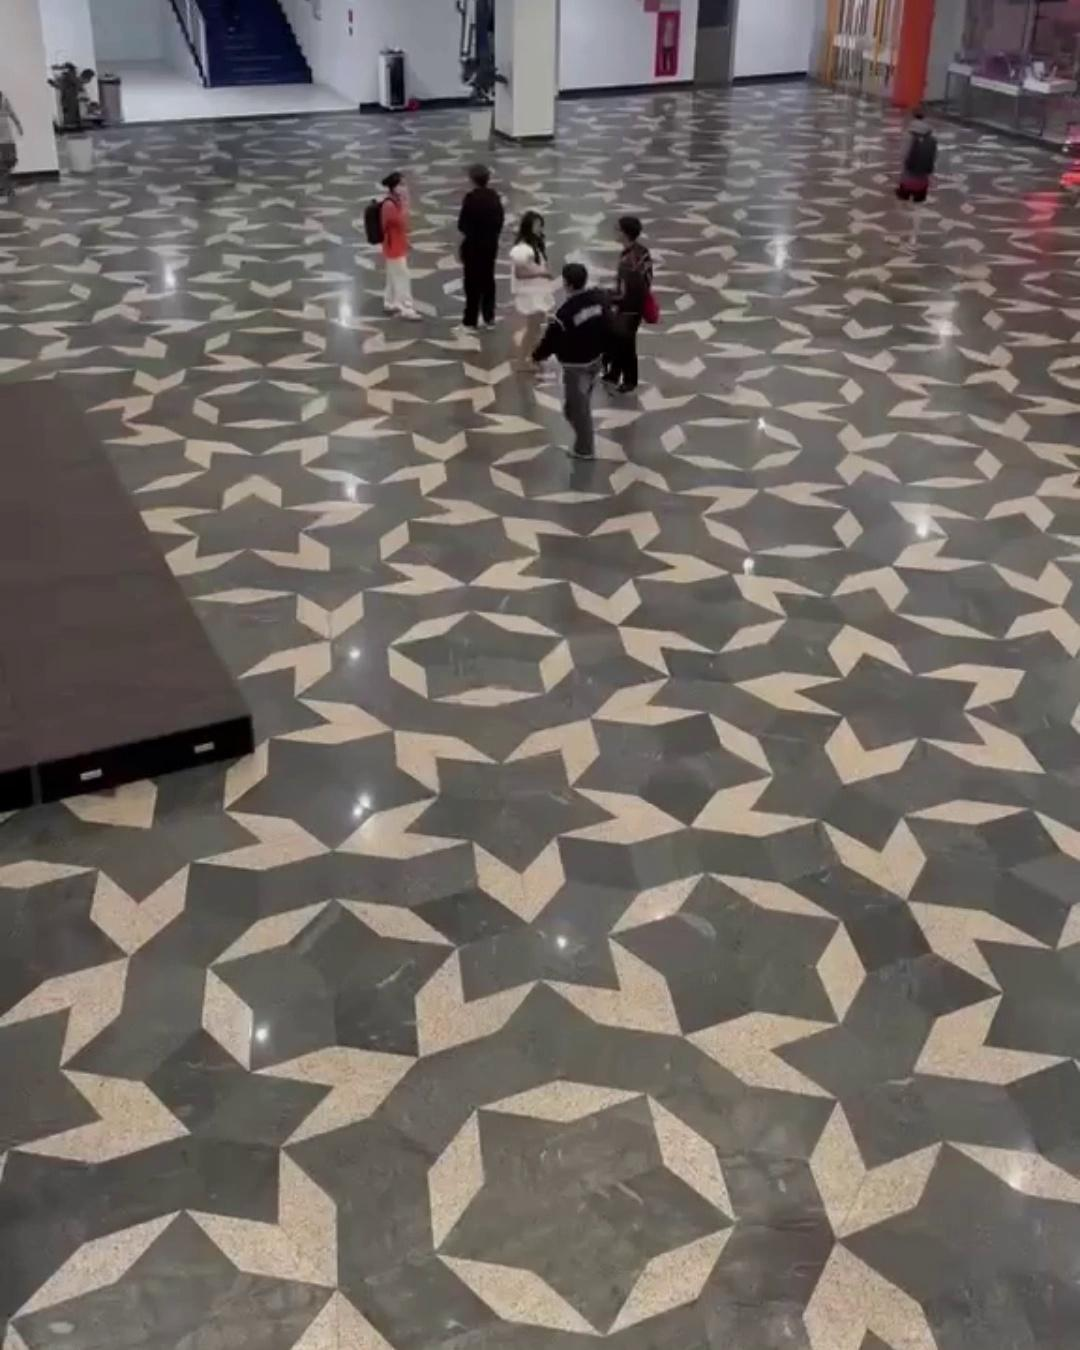your_class: (540, 238, 625, 484), (345, 148, 434, 335), (593, 203, 681, 386), (490, 193, 557, 423), (873, 83, 952, 263), (450, 140, 514, 330), (0, 88, 54, 215)
